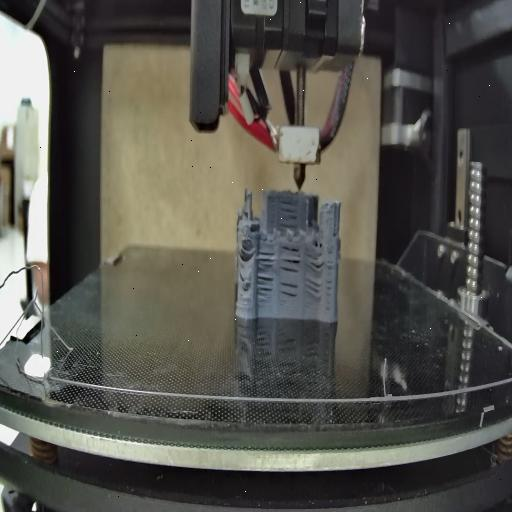cracks: (279, 194, 299, 228), (278, 244, 300, 274), (324, 254, 334, 312), (278, 280, 298, 302), (256, 275, 274, 299), (304, 252, 325, 272), (304, 278, 322, 300), (256, 251, 275, 271), (237, 244, 250, 262), (331, 227, 337, 240), (238, 273, 244, 286)
